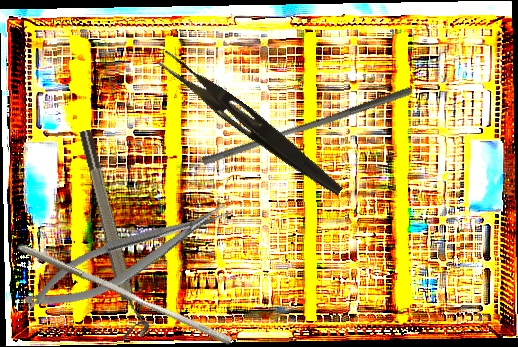Dressing Forceps: (151, 49, 351, 199)
Fixation Ring: (75, 126, 152, 341)
Needle Holder: (15, 194, 239, 324)
Pusher: (13, 242, 236, 346), (201, 78, 413, 173)
